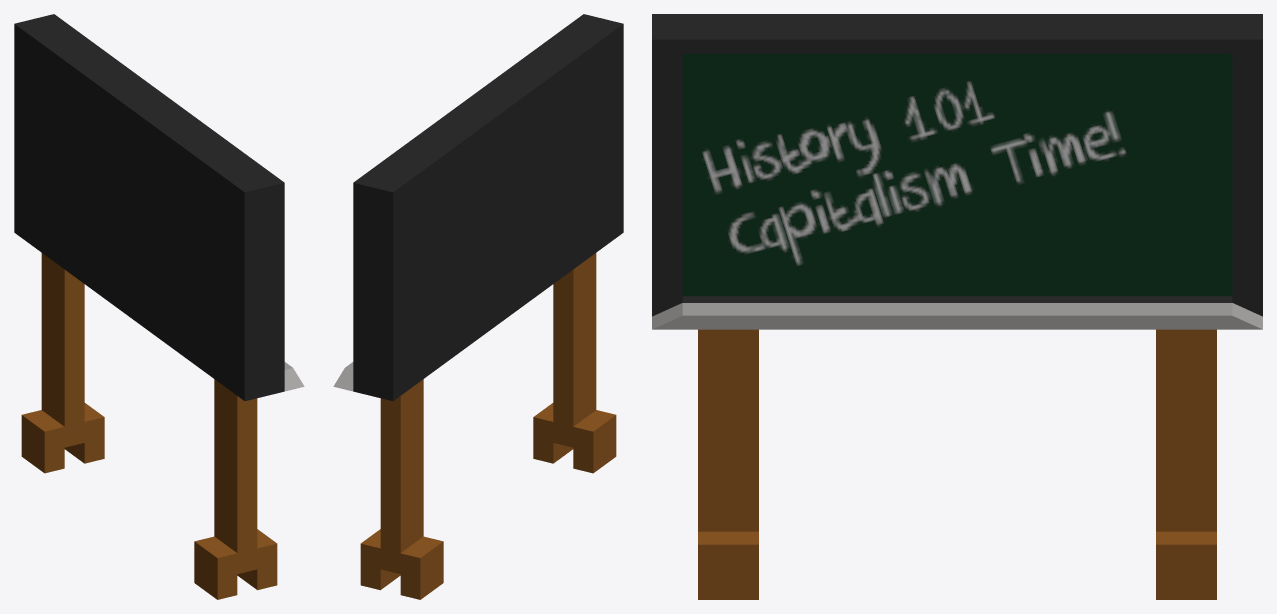
File: chalkBoard(text).fbx
3 renders of one model, left to right at view 1: azimuth 30°, elevation 25°; view 2: azimuth 150°, elevation 25°; view 3: azimuth 270°, elevation 25°, orthographic. The views are drawn at different scales.
Parts seen in each view (by area): view 1: Cube.002, Cube, Cube.001; view 2: Cube.002, Cube.001, Cube; view 3: Cube.002, Cube, Cube.001.
Part boxes in pixels (x1,y1,x2,y2): Cube.002: [14, 14, 304, 400]; Cube: [194, 379, 277, 599]; Cube.001: [21, 253, 104, 473]; Cube.002: [333, 14, 623, 400]; Cube.001: [360, 379, 443, 599]; Cube: [533, 253, 616, 473]; Cube.002: [652, 14, 1262, 329]; Cube: [698, 329, 758, 599]; Cube.001: [1156, 329, 1216, 599].
Bounding box in the file's own units: 70 × 400 × 400.
